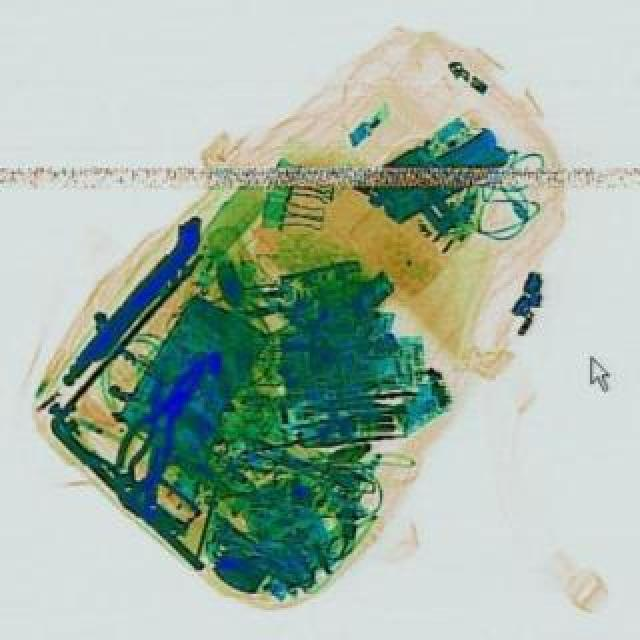wrench: (98, 348, 226, 494)
